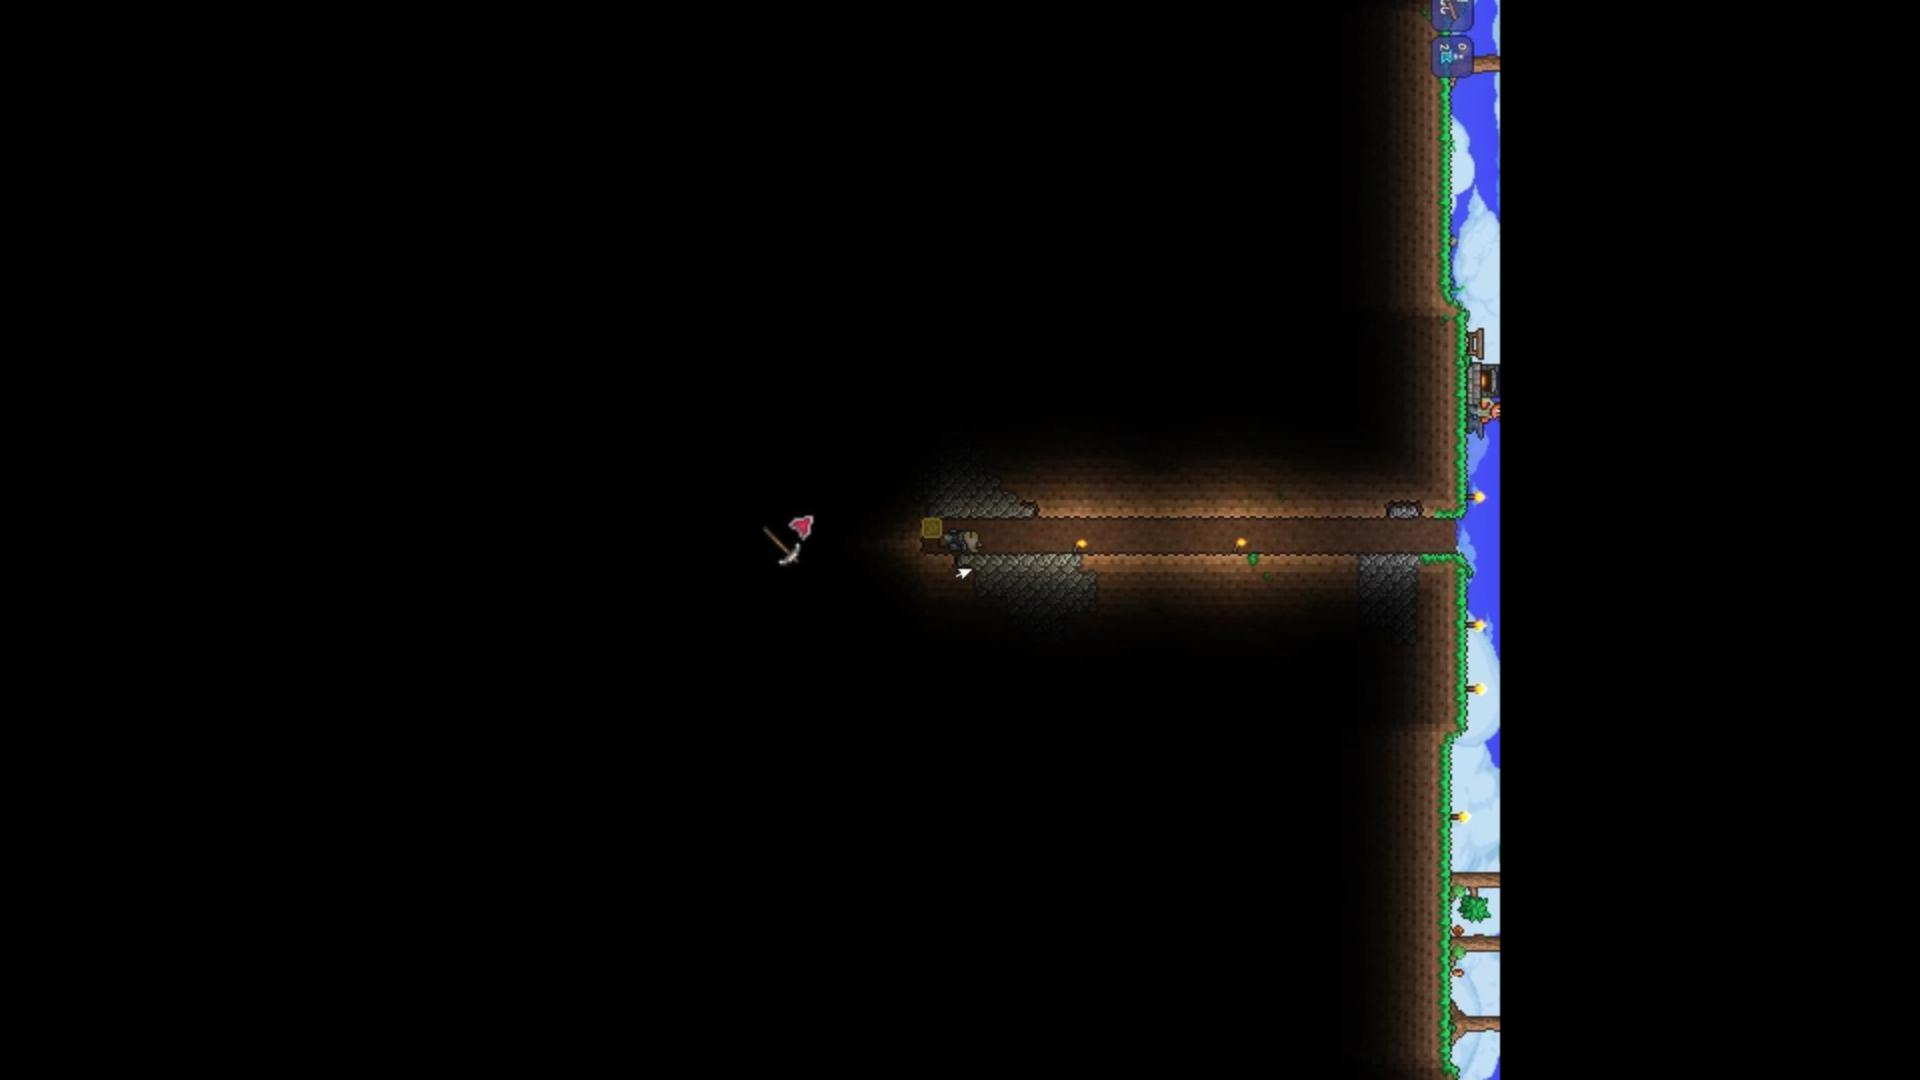anvil: (1465, 410, 1486, 440)
furnace: (1468, 360, 1501, 402)
recallP: (1436, 47, 1465, 66)
torchT: (1068, 533, 1092, 556), (1228, 534, 1253, 554), (1462, 680, 1489, 696), (1462, 617, 1487, 633), (1465, 489, 1489, 504), (1449, 810, 1472, 824)
workbench: (1466, 326, 1486, 361)
